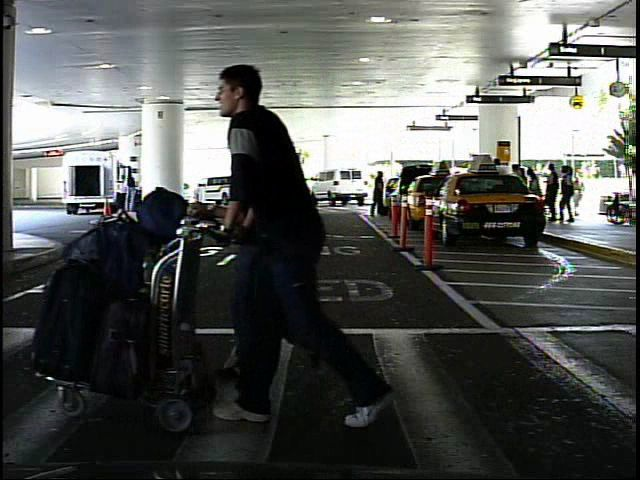person: (209, 48, 381, 427), (371, 167, 390, 222), (573, 172, 593, 219), (112, 170, 130, 219)
